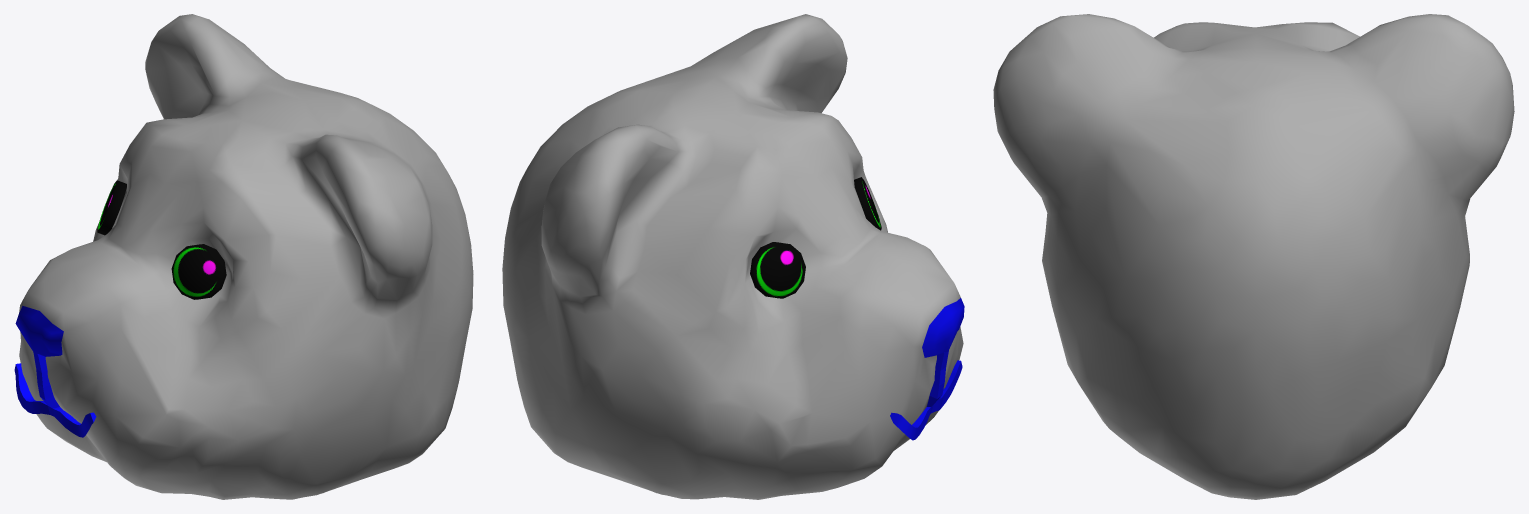
Rendered from SM_BearHead.fbx.
3 renders of one model, left to right at view 1: azimuth 30°, elevation 25°; view 2: azimuth 150°, elevation 25°; view 3: azimuth 270°, elevation 25°, orthographic. The views are drawn at different scales.
Parts seen in each view (by area): view 1: Head; view 2: Head; view 3: Head.
Boxes of the visible parts, box(x1,y1,x2,y2) form: Head: box(14, 14, 473, 499); Head: box(502, 14, 964, 499); Head: box(993, 14, 1514, 499).
Bounding box in the file's own units: 5951 × 5317 × 5817.
2 materials, 1 textured.
